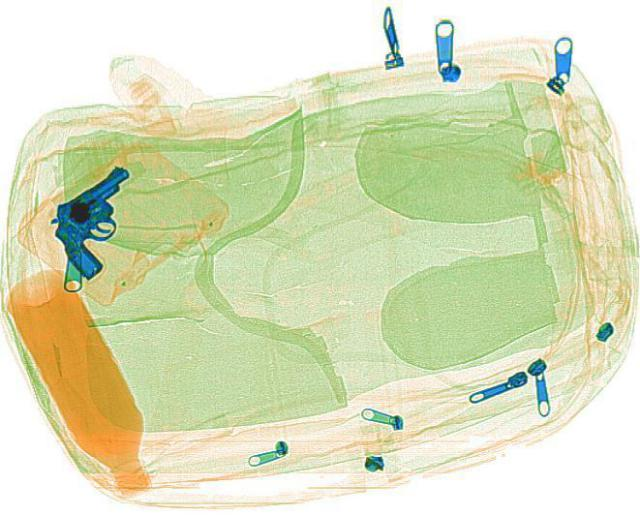Gun: (24, 162, 184, 277)
